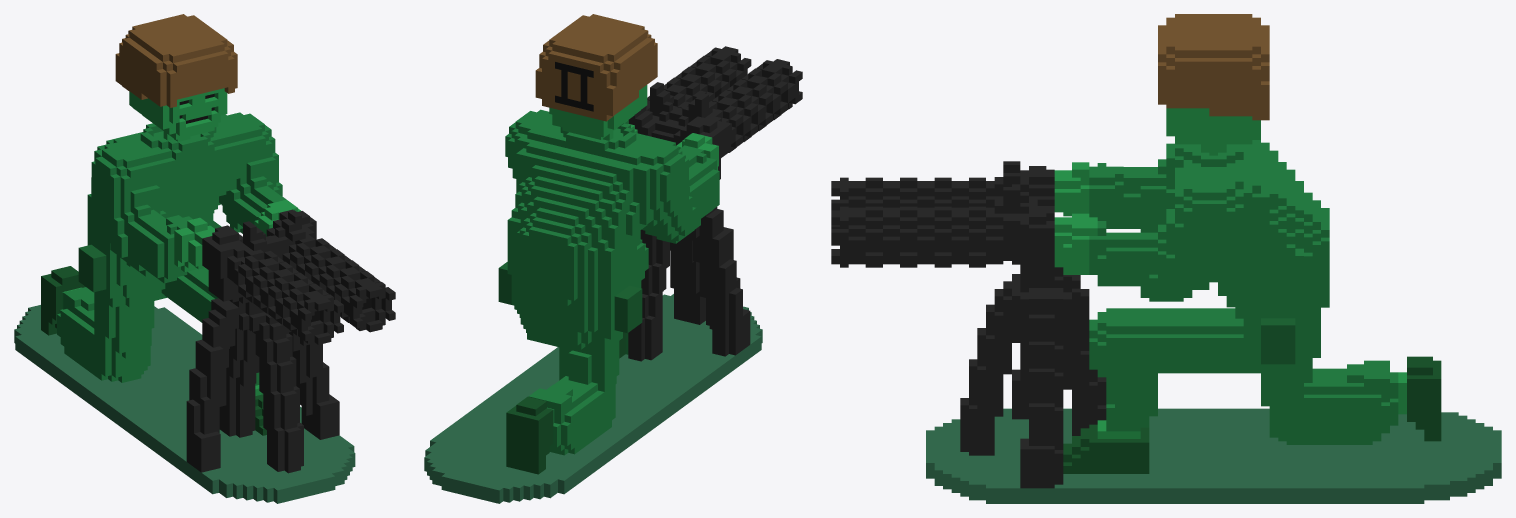
The model's file is machinegun_soldier_LVL2_3.0.obj.
The picture shows the model from 3 angles, left to right: view 1: azimuth 30°, elevation 25°; view 2: azimuth 150°, elevation 25°; view 3: azimuth 270°, elevation 25°; orthographic projection. The views are drawn at different scales.
Size of the model in its own units: 2.5 by 5.5 by 7.8.
Materials: 1 (1 with a texture image).
